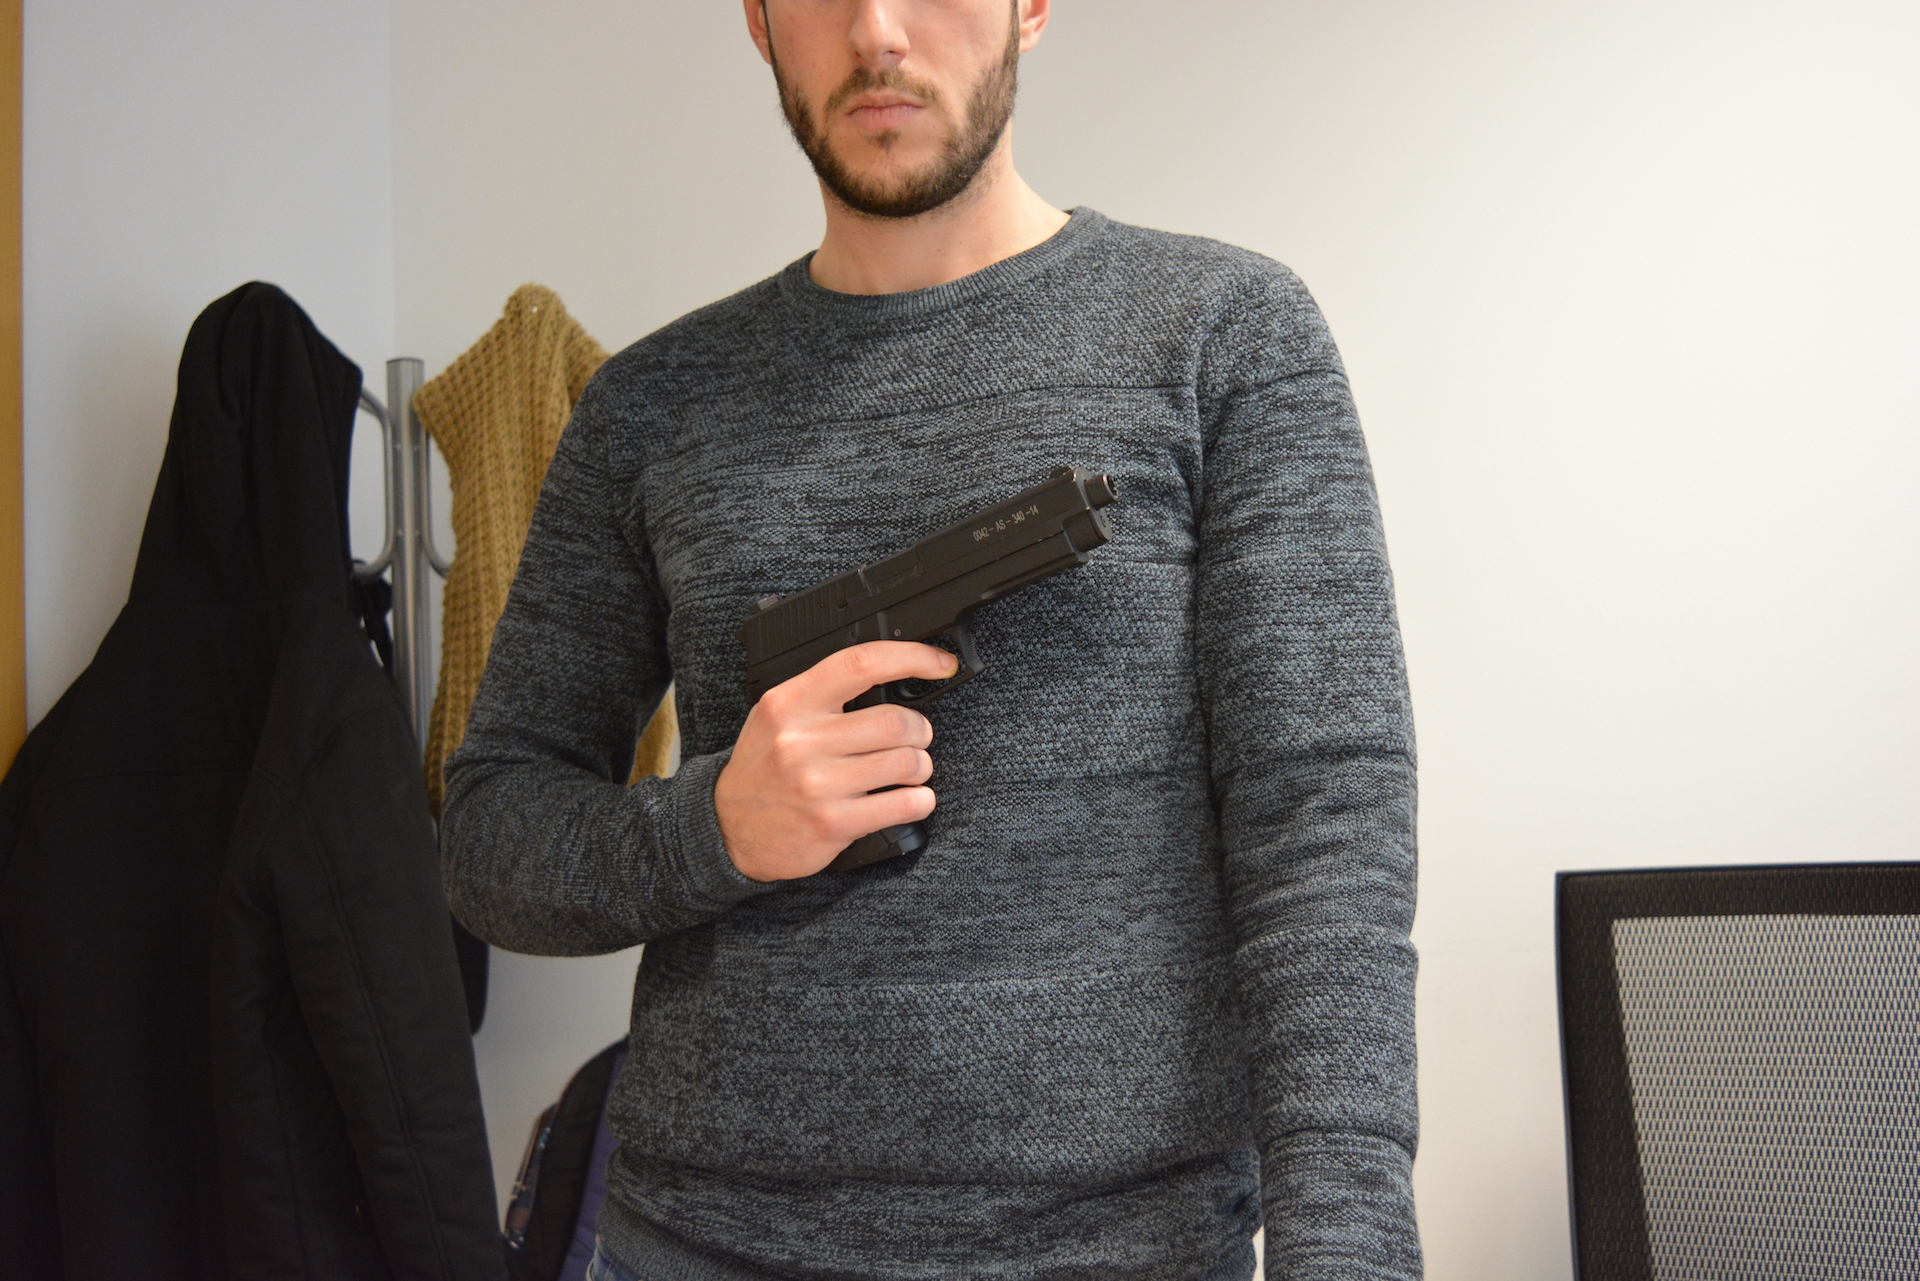pistol: (736, 460, 1122, 882)
